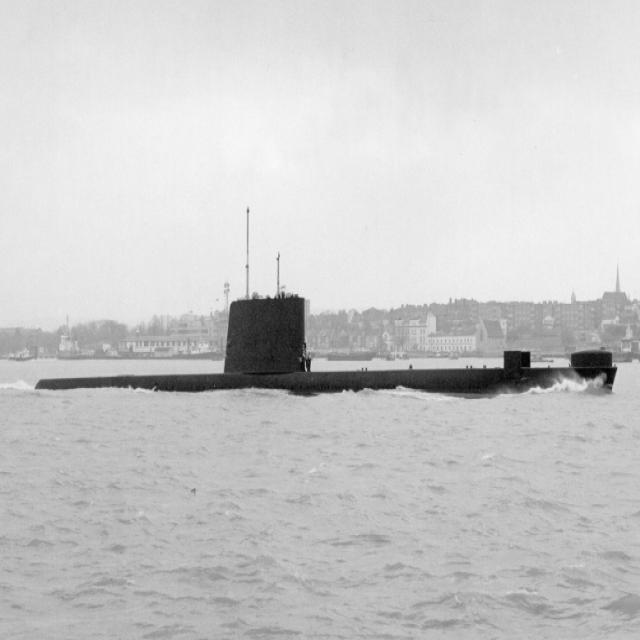submarine: (32, 296, 624, 393)
